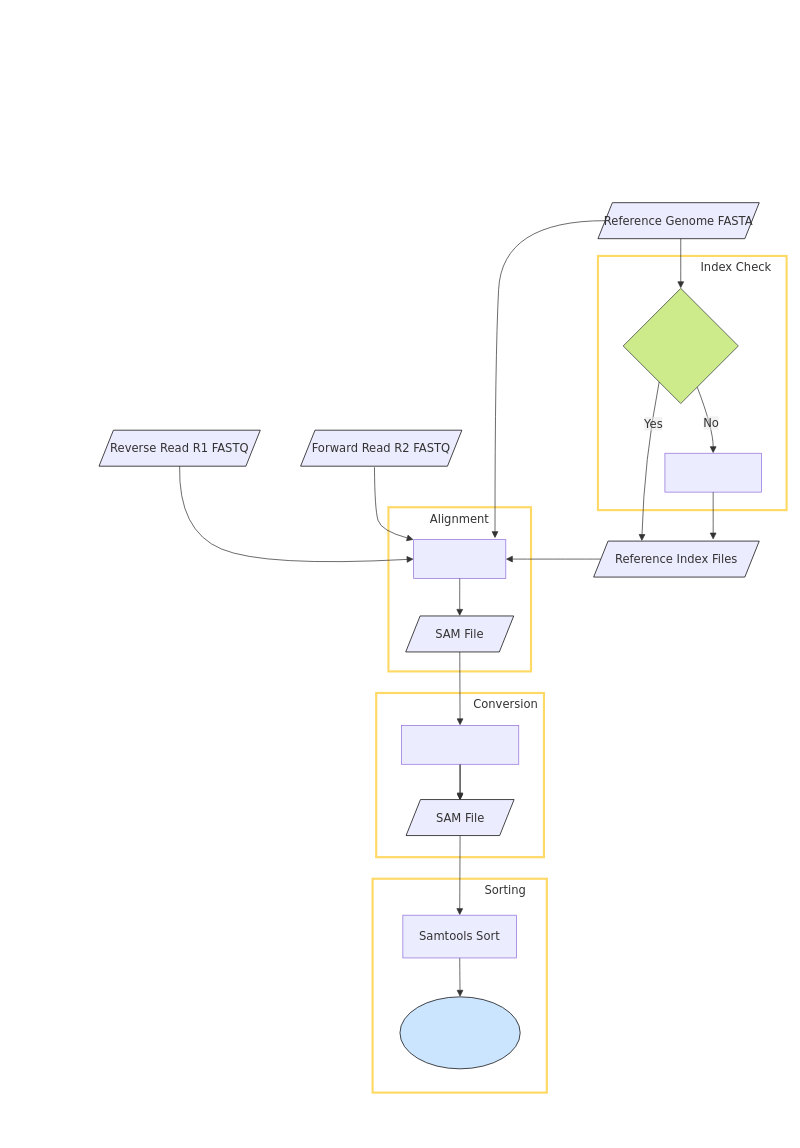
Some shapes in this 800 by 1148 pixel diagram are drawn without their labels. The centre of each missing label's shape, as x and y in pixels:
BWA Index: pixel 712 472
BWA Mem: pixel 459 559
Index Exists?: pixel 680 346
Samtools View: pixel 460 744
Sorted BAM File: pixel 459 1032
